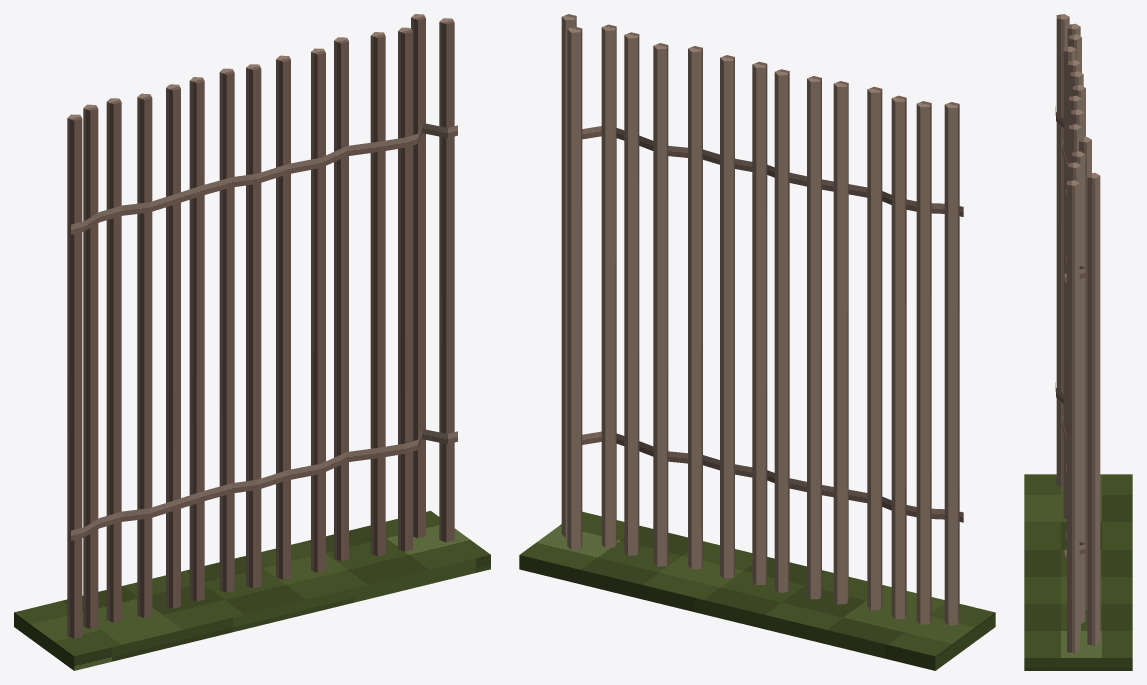
The model's file is wall_869x08.gltf.
3 renders of one model, left to right at view 1: azimuth 30°, elevation 25°; view 2: azimuth 150°, elevation 25°; view 3: azimuth 270°, elevation 25°, orthographic. The views are drawn at different scales.
Parts seen in each view (by area): view 1: wall_869x08; view 2: wall_869x08; view 3: wall_869x08.
Boxes of the visible parts, box(x1,y1,x2,y2) form: wall_869x08: box(14, 14, 490, 670); wall_869x08: box(519, 14, 995, 670); wall_869x08: box(1024, 14, 1132, 670).
Bounding box in the file's own units: 4 × 4.89 × 1.
1 material, 1 textured.
